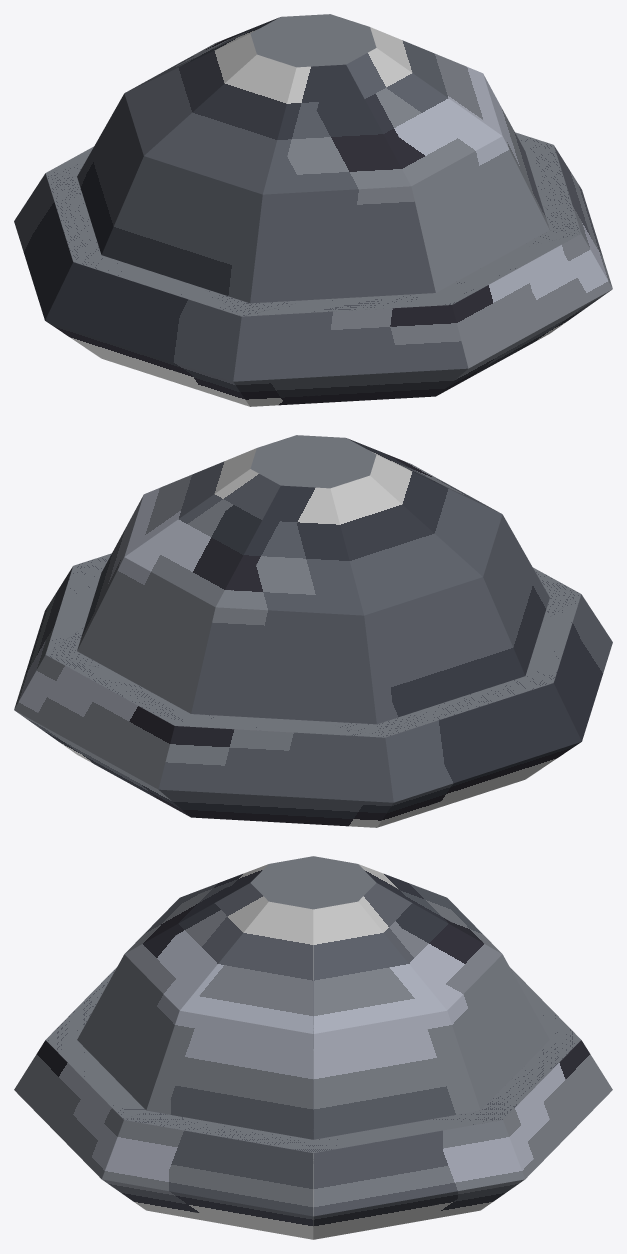
File: desk_bell.glb
The picture shows the model from 3 angles, top to bottom: view 1: azimuth 30°, elevation 25°; view 2: azimuth 150°, elevation 25°; view 3: azimuth 270°, elevation 25°; orthographic projection. The views are drawn at different scales.
Visible parts, largest first — view 1: Bell_Dome, Bell_Base; view 2: Bell_Dome, Bell_Base; view 3: Bell_Dome, Bell_Base.
Boxes of the visible parts, x1,y1,x2,y2 form: Bell_Dome: (77, 14, 549, 303); Bell_Base: (14, 132, 612, 406); Bell_Dome: (77, 435, 549, 724); Bell_Base: (14, 553, 612, 827); Bell_Dome: (77, 856, 549, 1139); Bell_Base: (14, 967, 612, 1239).
Size of the model in its own units: 0.38 by 0.18 by 0.38.
Materials: 1 (1 with a texture image).
